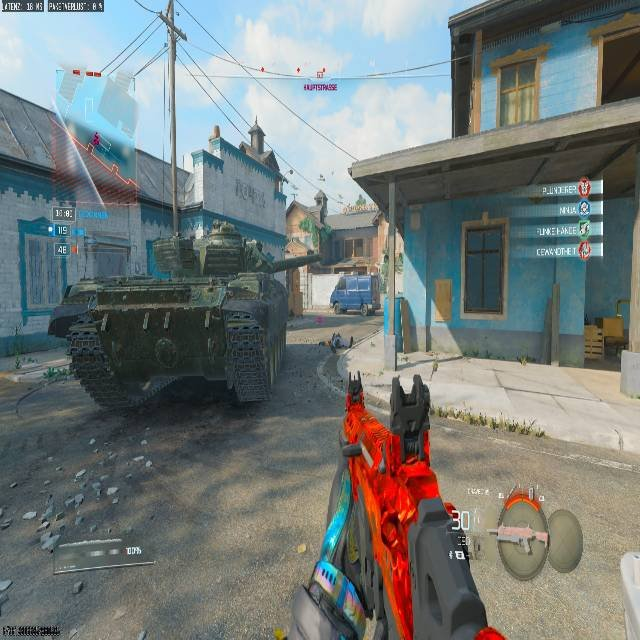player: (323, 333, 352, 383)
